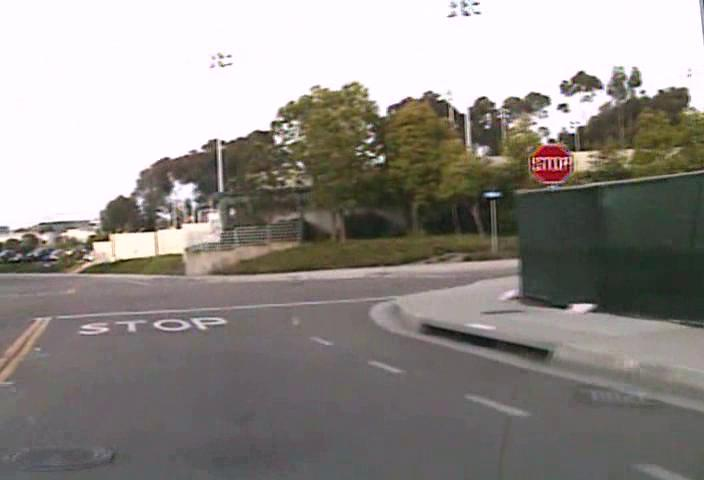stop: (528, 142, 573, 184)
